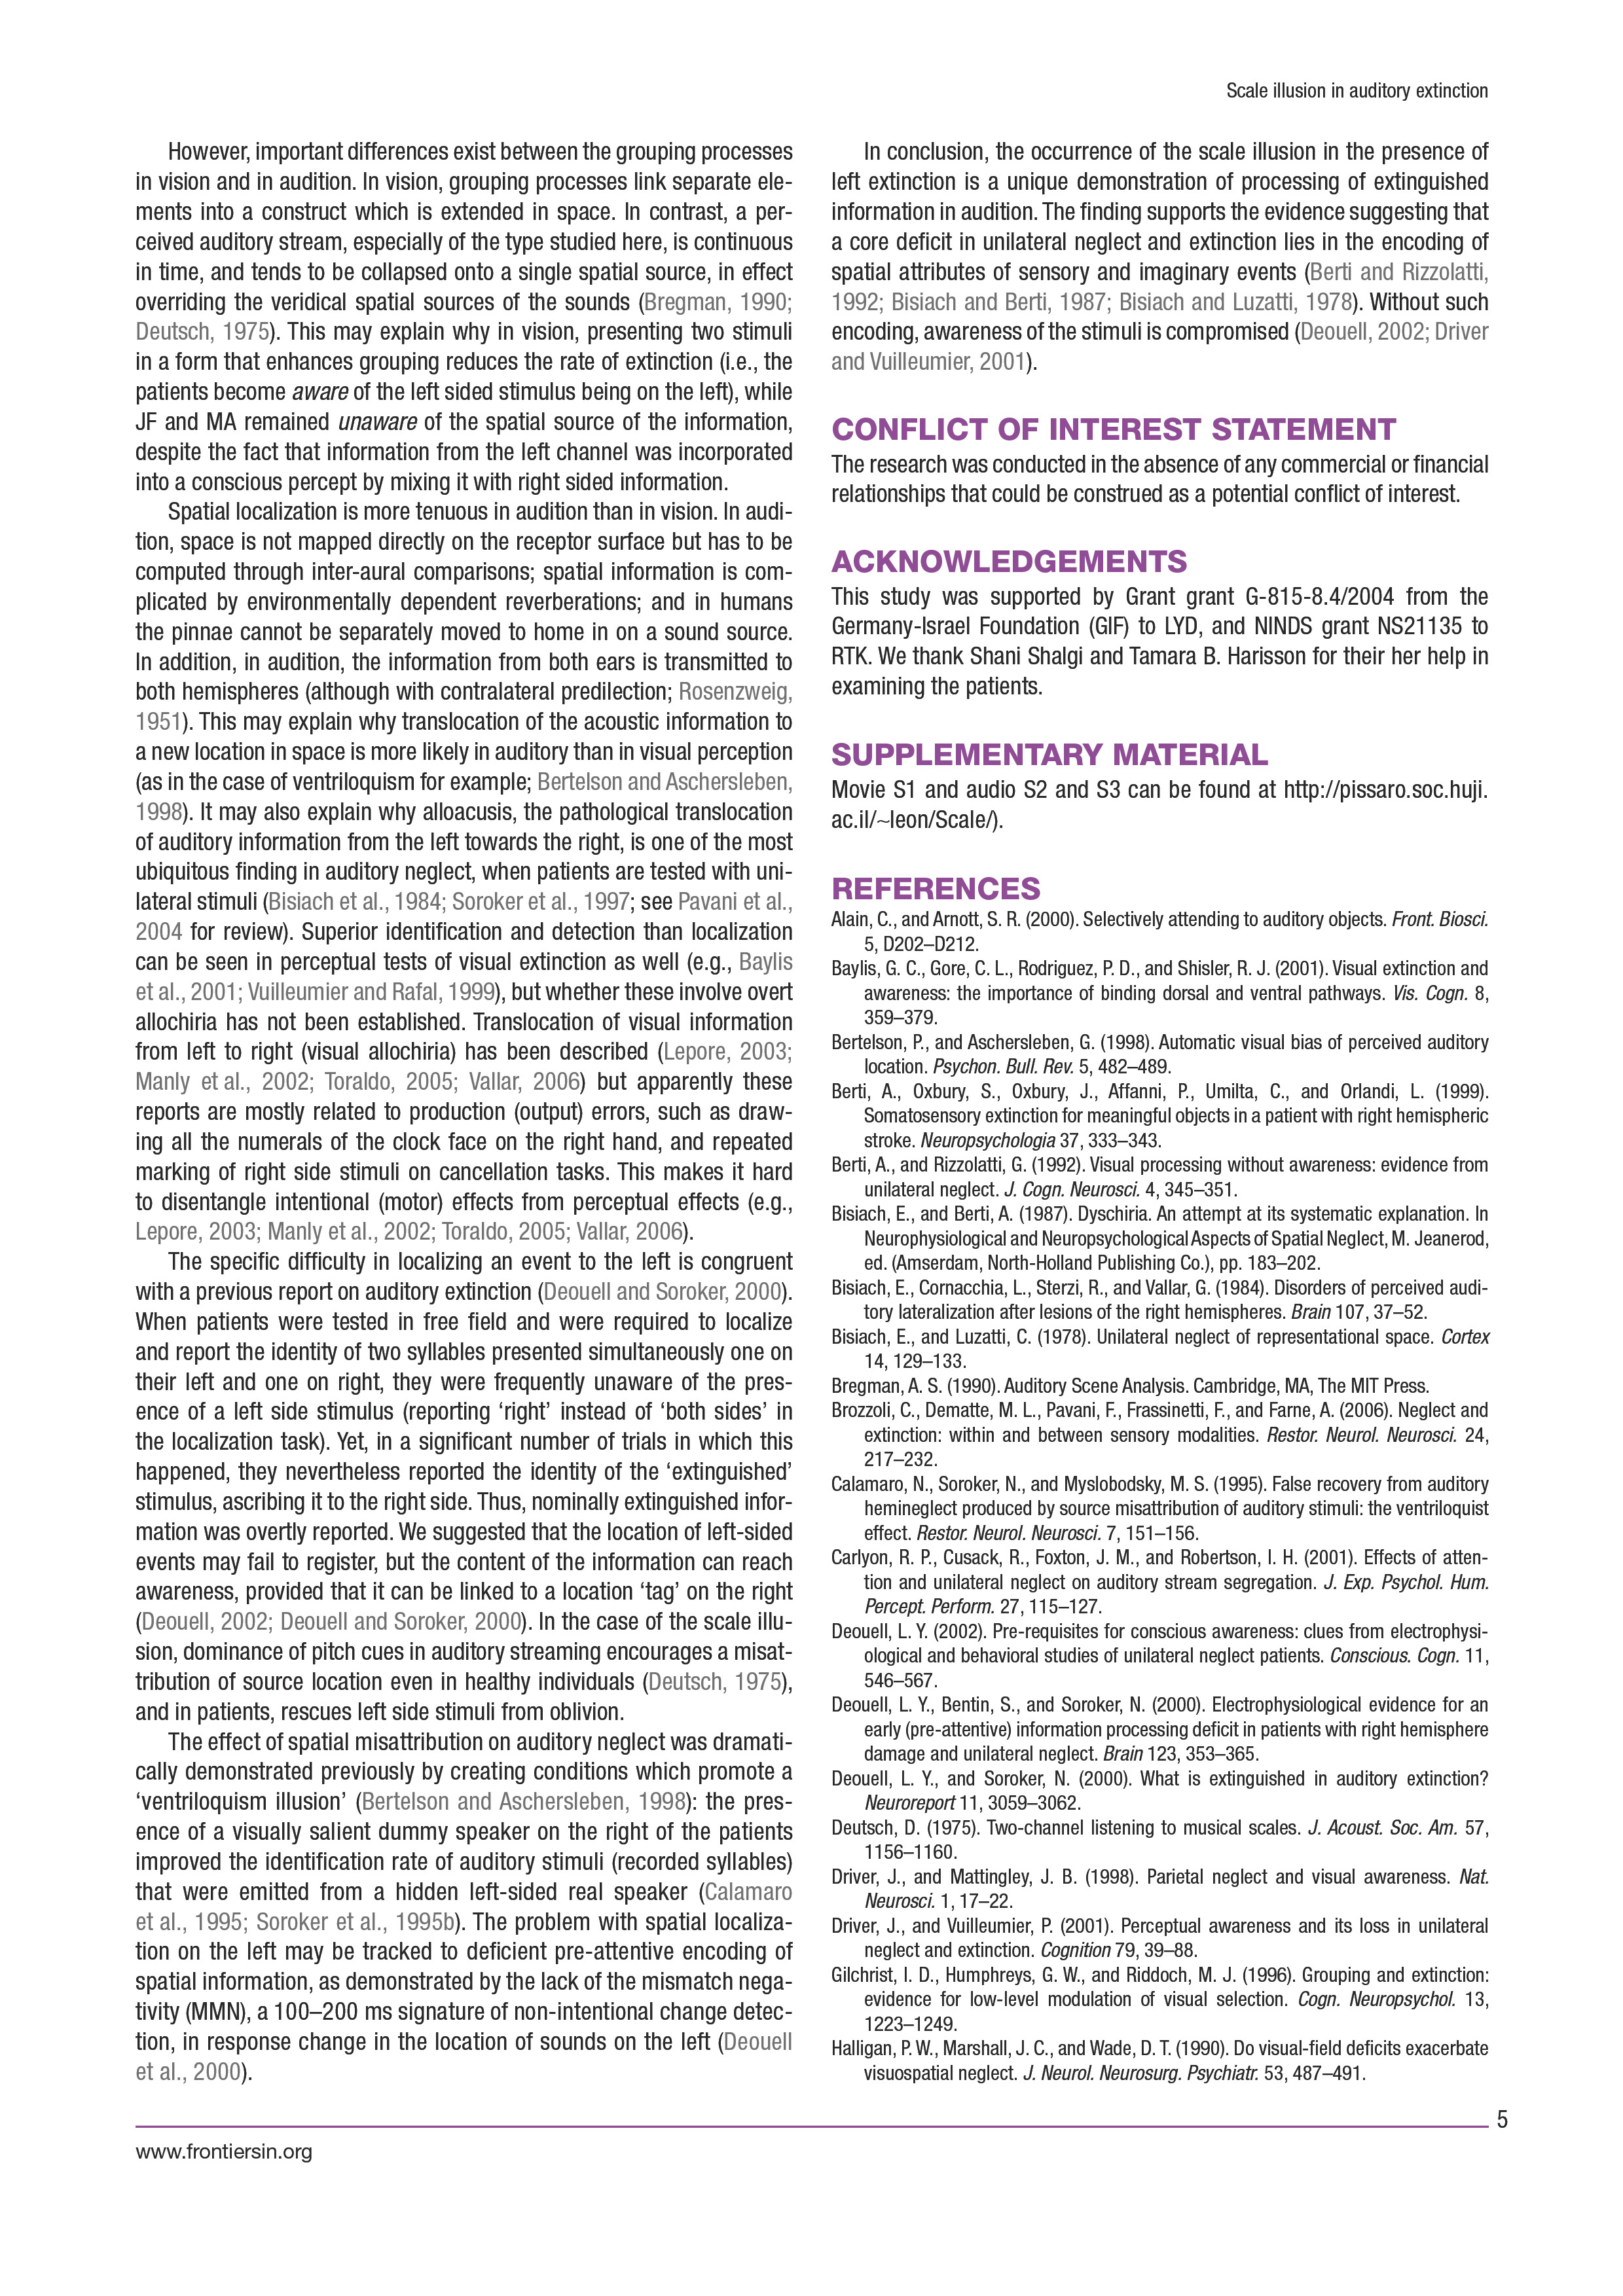list: (824, 915, 1488, 2085)
section: (815, 402, 1414, 462), (824, 732, 1298, 781), (819, 539, 1230, 585), (819, 865, 1054, 915)
text: (126, 116, 785, 1222), (130, 1250, 785, 1708), (116, 1733, 797, 2092), (824, 137, 1495, 381), (819, 599, 1481, 711), (824, 448, 1484, 525), (819, 778, 1491, 839)
